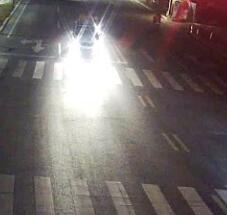car: (69, 21, 105, 55)
